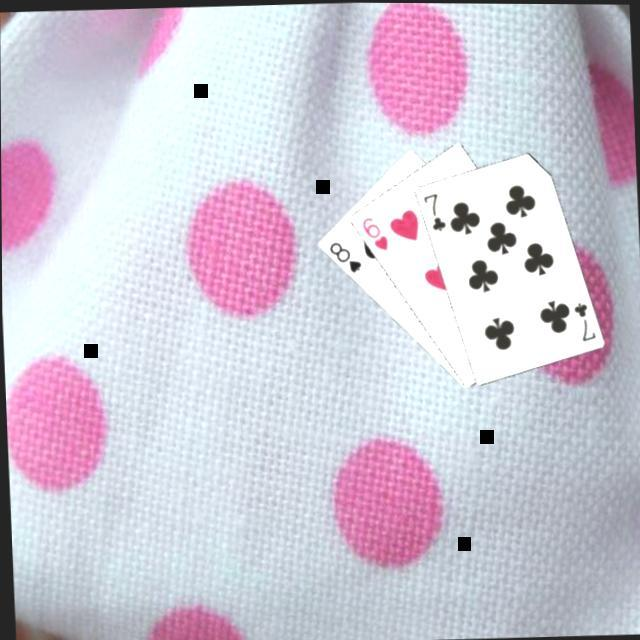6H: (357, 213, 389, 254)
7C: (567, 298, 597, 344), (417, 189, 447, 234)
8S: (324, 238, 363, 277)
